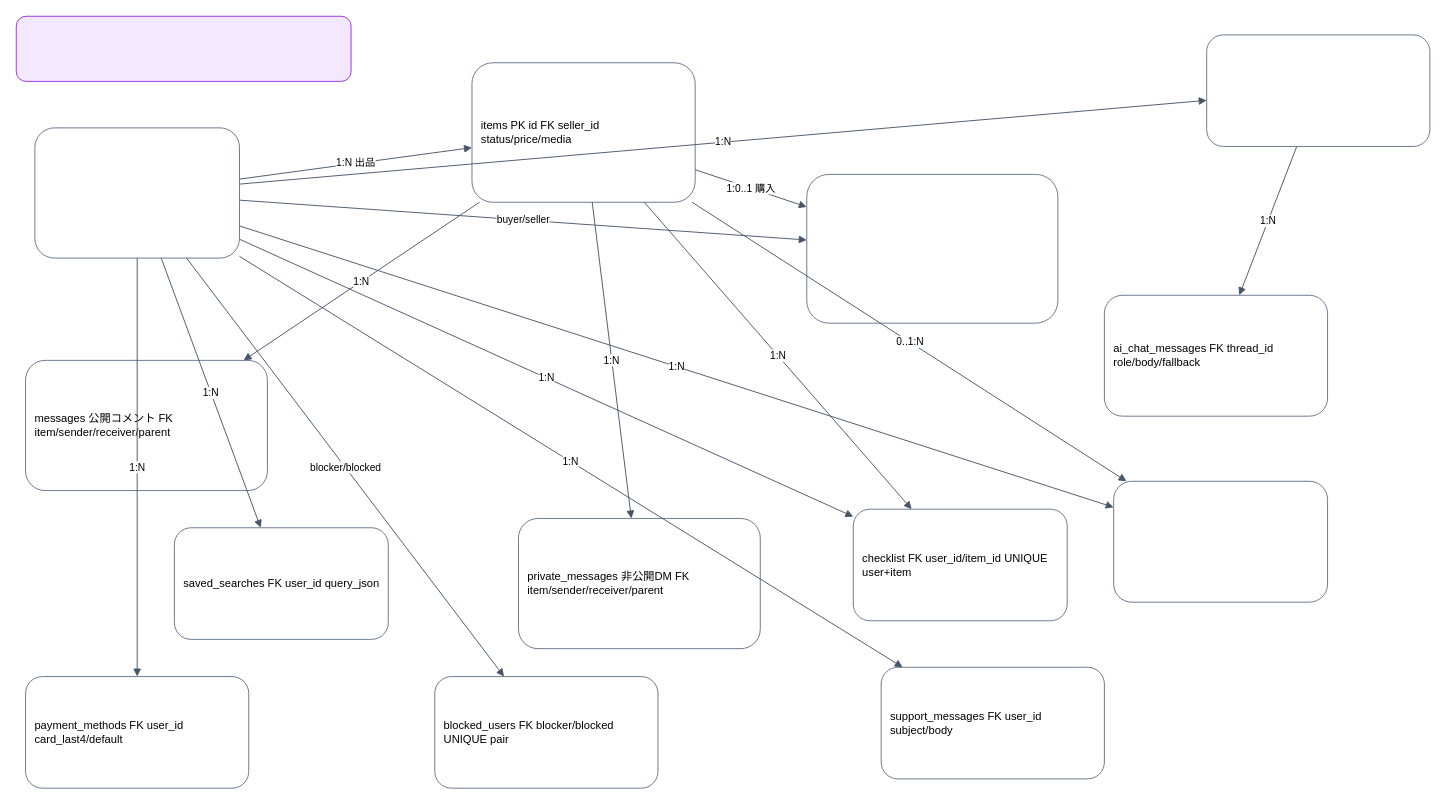
Some shapes in this 1446 by 804 pixel diagram are drawn without their labels. Here are the shapes that lost their labels. From the top down, the centre of each, then its label:
At (x=183, y=48): "ER図 主要テーブルと外部キー関係".
At (x=1318, y=90): "ai_chat_threads FK user_id title/updated_at".
At (x=136, y=192): "users PK id name/email balance/sales rating".
At (x=932, y=248): "purchases PK id FK item_id/buyer_id/seller_id status/rating".
At (x=1220, y=541): "notifications FK user_id/item_id read_at".
